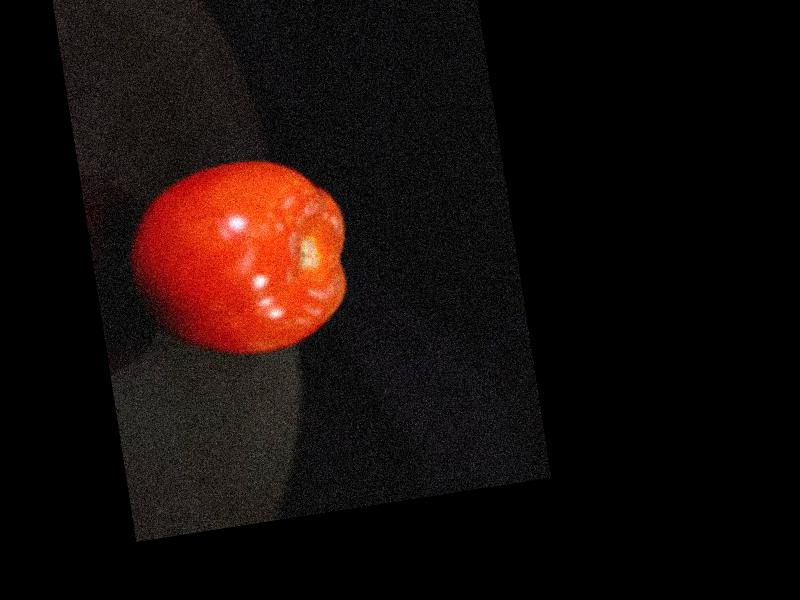Tomato: (117, 144, 364, 371)
